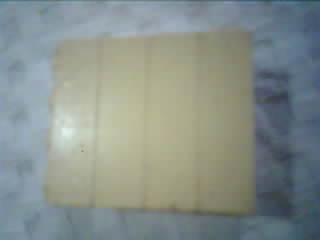lego: (39, 26, 262, 221)
